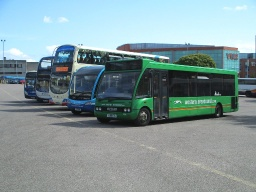bus: (99, 58, 243, 131), (49, 42, 79, 107), (68, 64, 103, 115), (36, 56, 54, 101), (24, 70, 39, 99)
